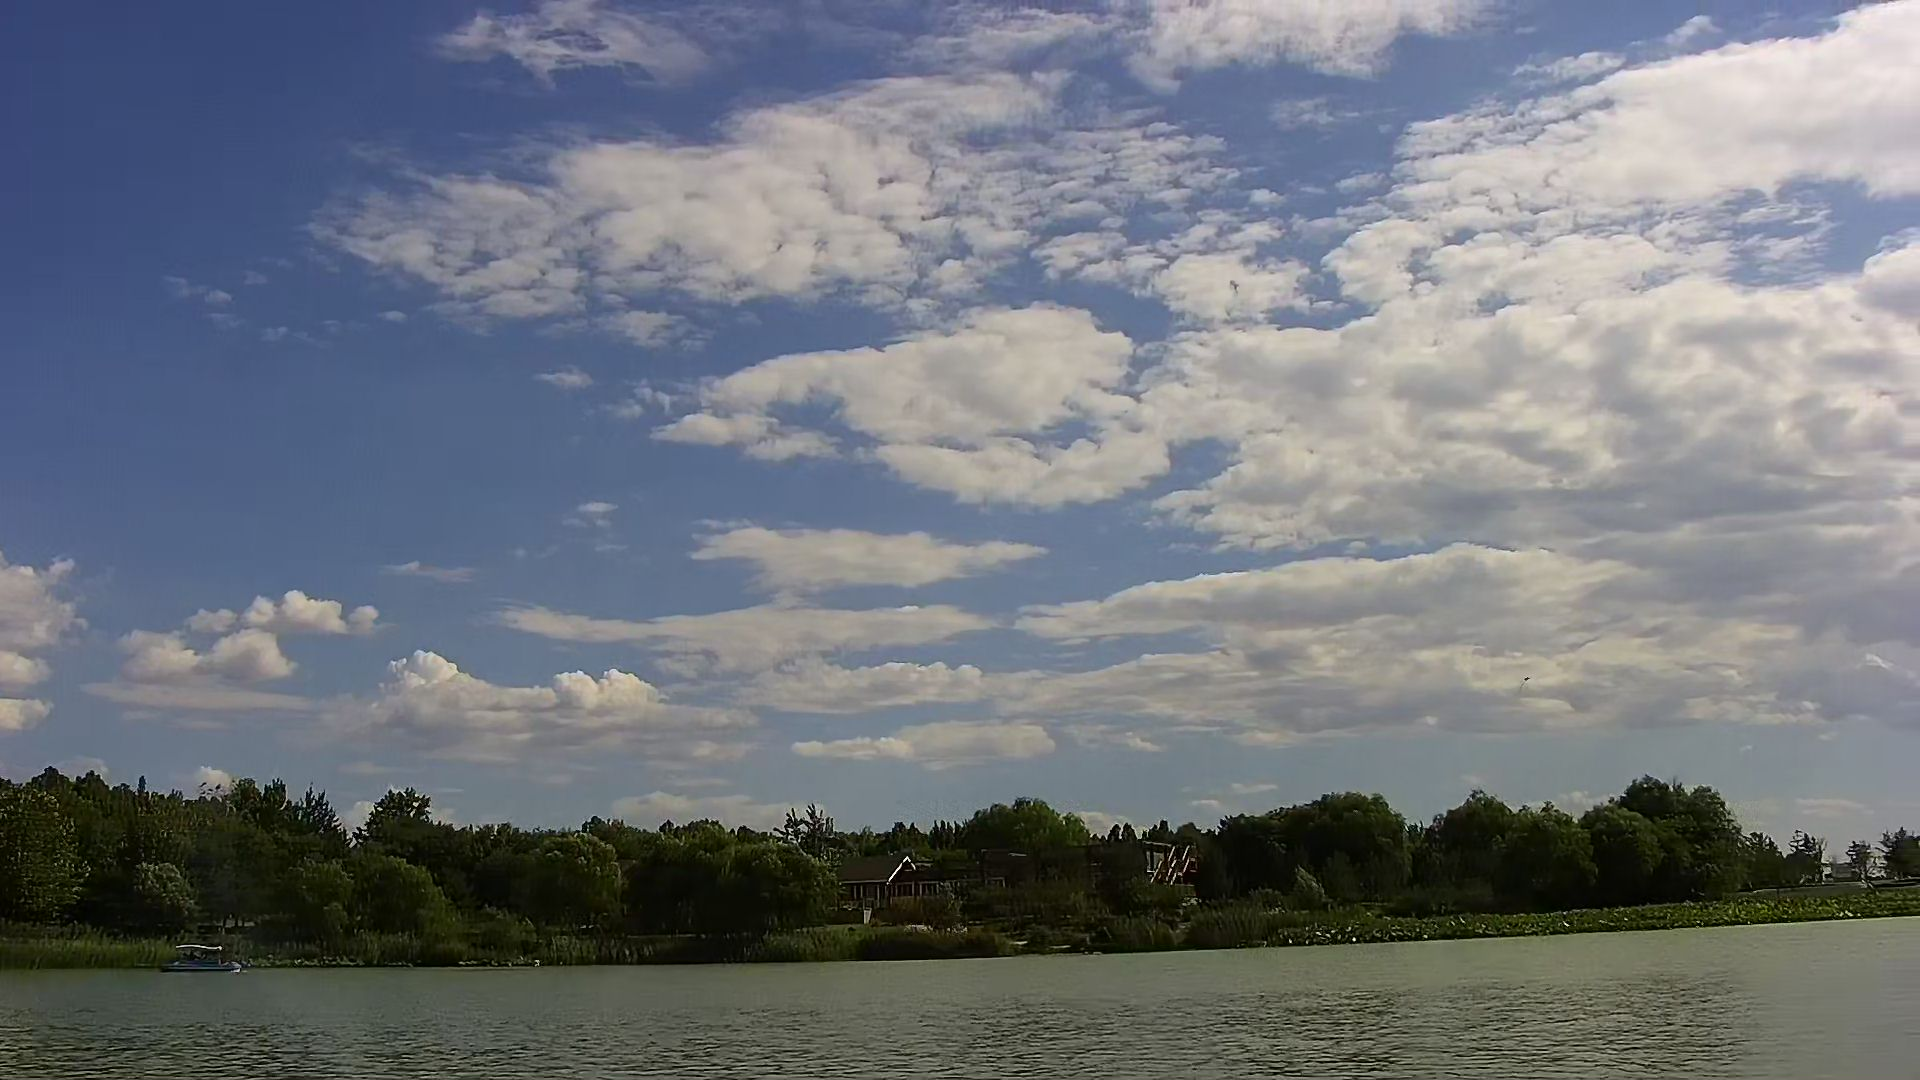boat: (154, 938, 251, 978)
